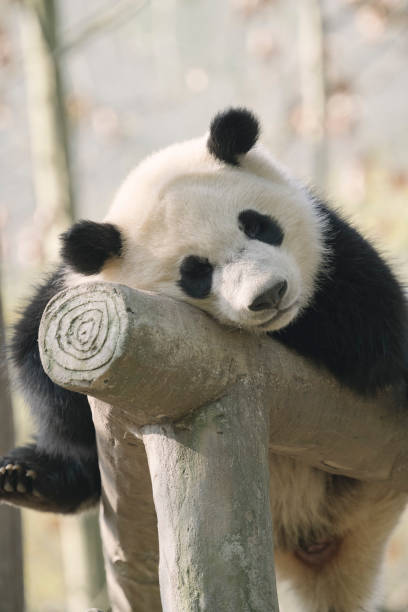panda: (54, 97, 347, 362)
